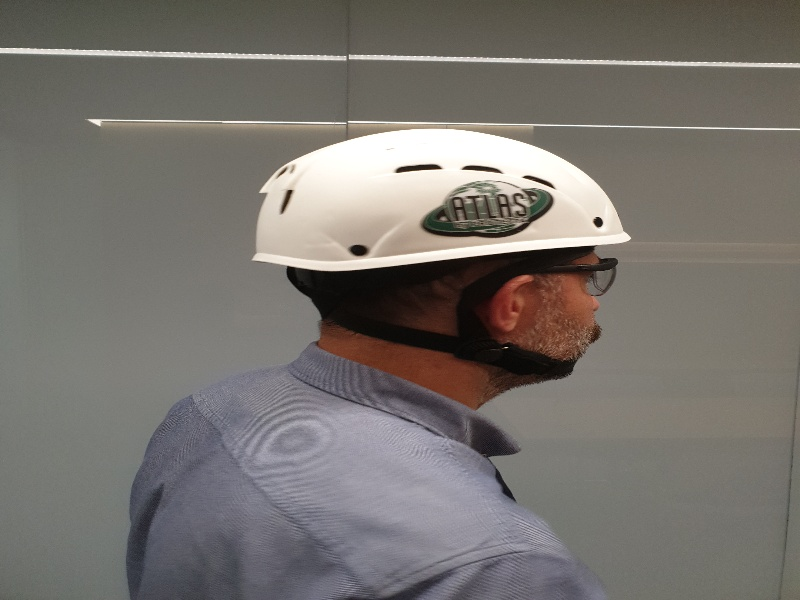Baret: (264, 125, 636, 256)
Gozluk: (549, 256, 637, 294)
